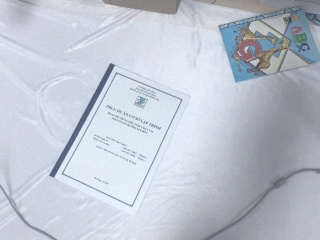book: (217, 4, 318, 85)
